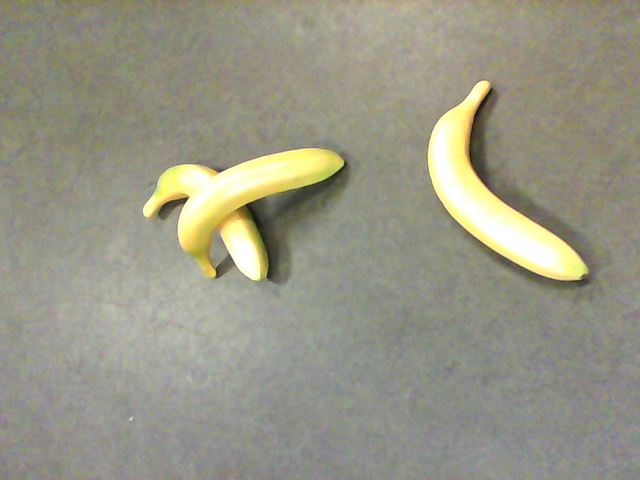banana: (427, 78, 591, 281), (178, 152, 345, 278), (141, 165, 269, 280)
